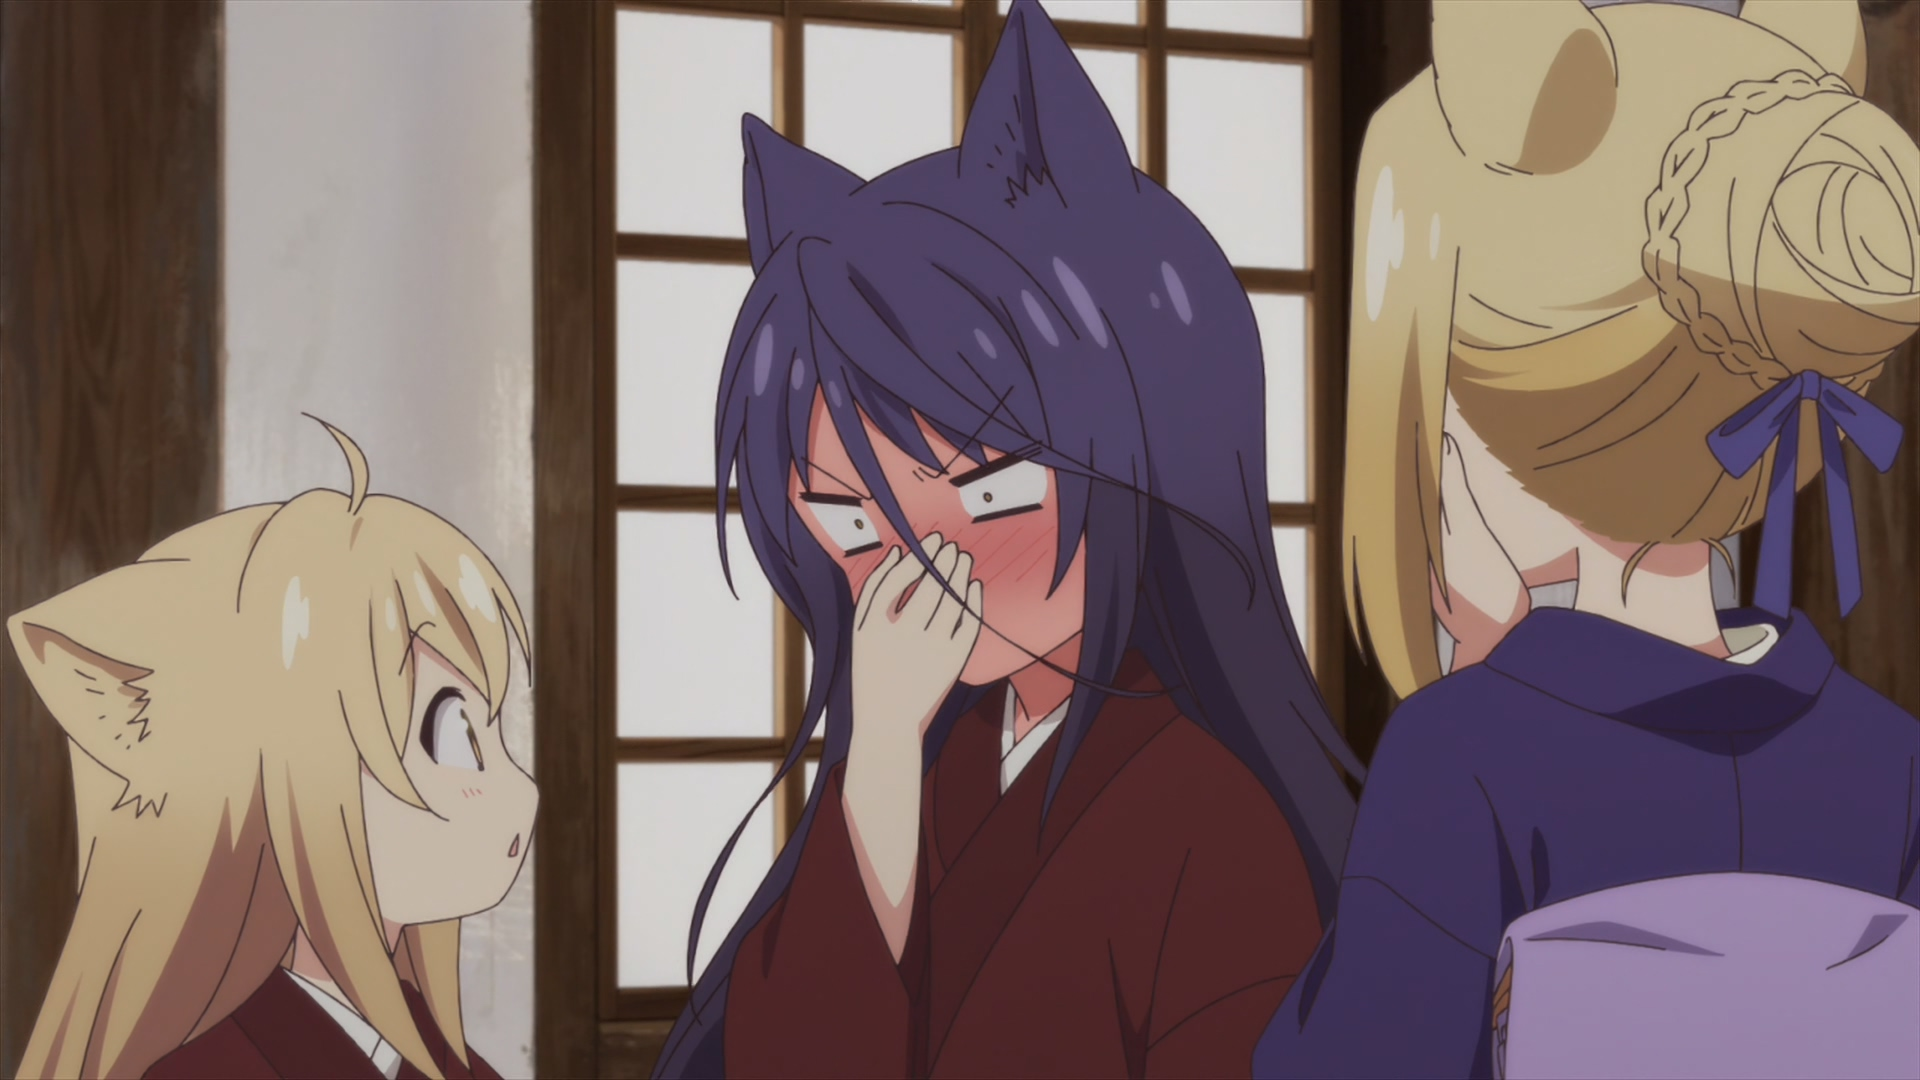柚: (7, 411, 539, 1080)
桐: (640, 1, 1366, 1080), (1247, 1, 1920, 1080)
